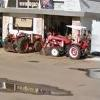Tractor: (7, 26, 83, 65)
